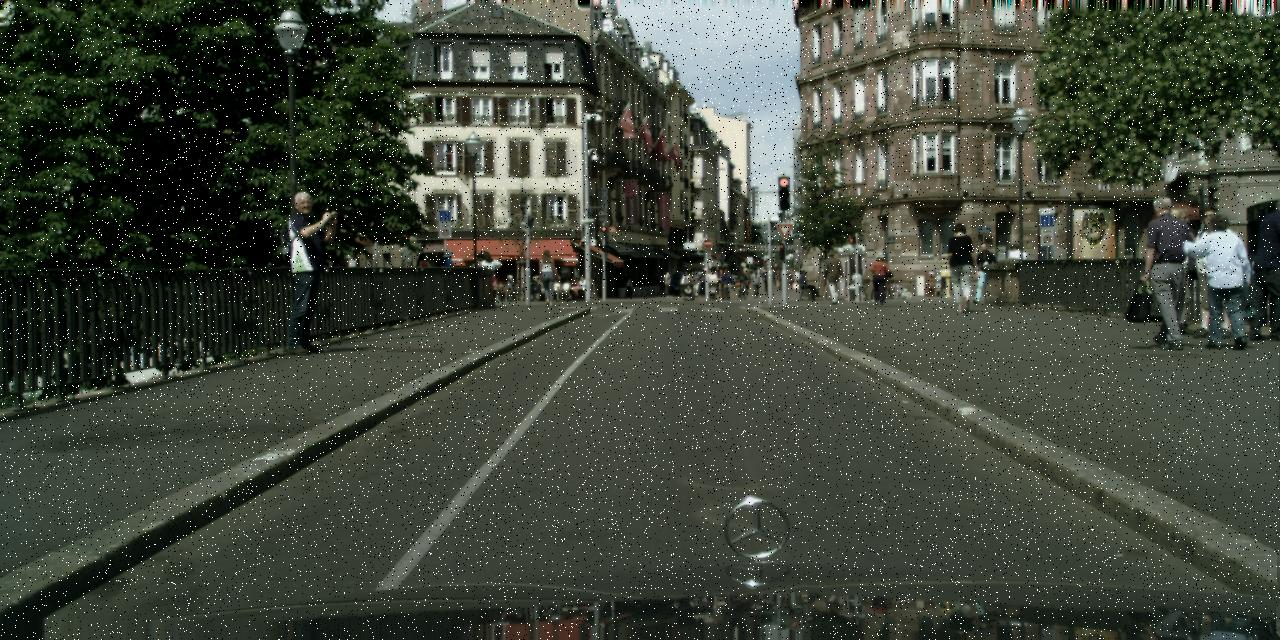ped: (272, 191, 340, 355), (1135, 196, 1197, 349), (1194, 211, 1250, 348), (1184, 205, 1239, 338), (1155, 206, 1207, 334), (1244, 197, 1279, 341), (944, 222, 980, 312), (412, 253, 436, 313), (971, 242, 995, 302), (436, 249, 460, 308), (536, 250, 559, 306), (822, 248, 844, 304), (868, 250, 890, 304), (554, 273, 584, 301), (714, 267, 736, 297), (478, 250, 504, 274), (736, 262, 750, 294), (689, 268, 704, 296), (762, 267, 774, 298), (749, 268, 761, 298), (532, 274, 544, 302), (680, 270, 691, 296), (664, 270, 674, 296), (1006, 243, 1018, 259), (656, 274, 665, 294), (625, 276, 633, 296), (774, 262, 780, 288), (1024, 250, 1030, 258), (761, 267, 766, 275), (467, 262, 473, 266)
